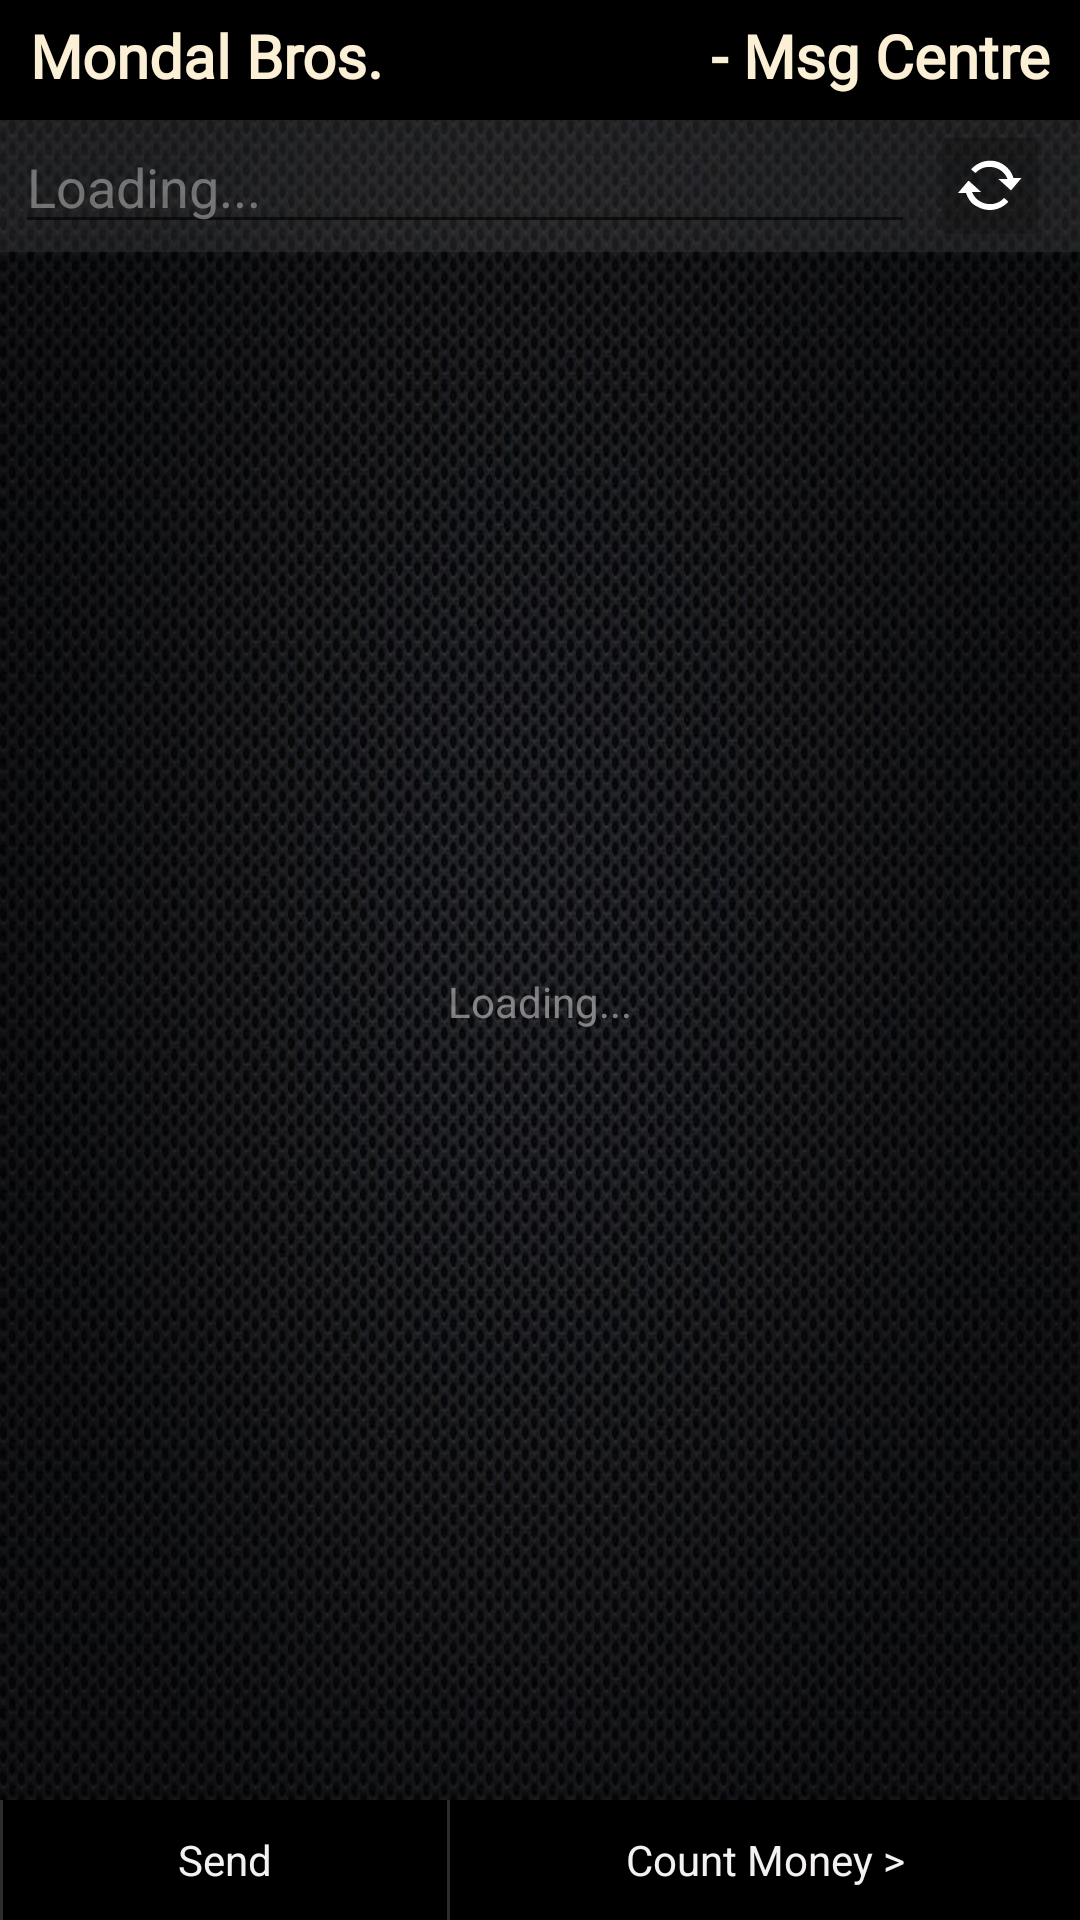

Locate icon controls on the screen. Image size 1080w x 1920h, boxes as bbox=[x1, y1, x2, y2].
sync: bbox=[958, 160, 1022, 210]
